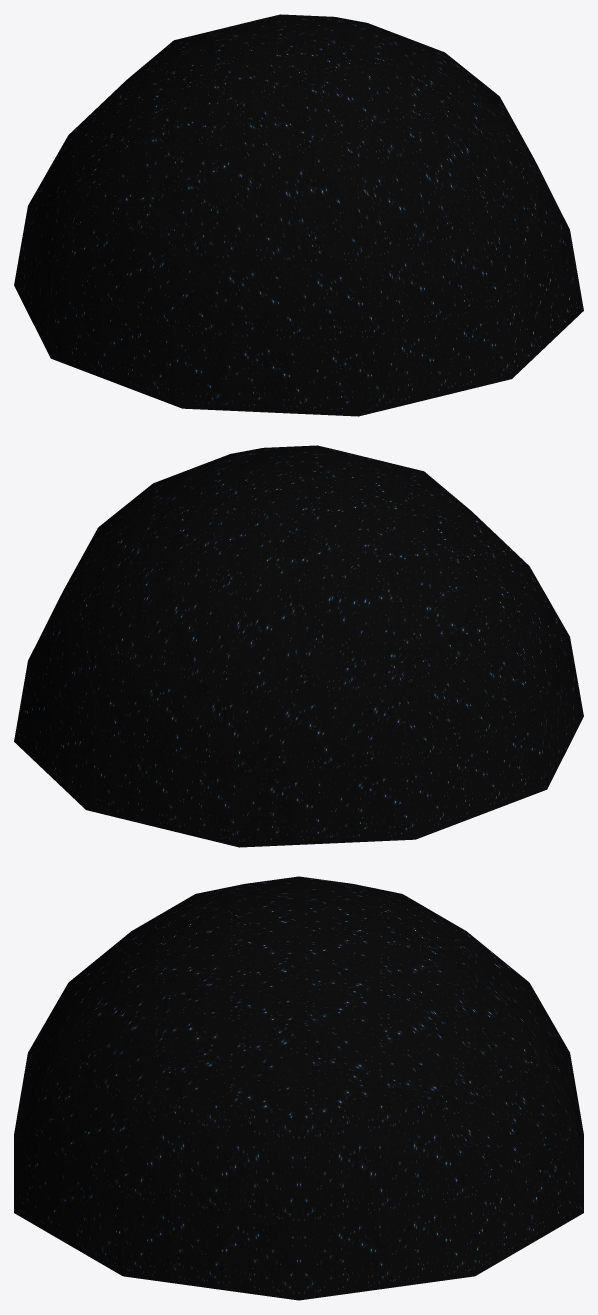
Rendered from halfsphere.obj.
3 views of the same model, one above another, from view 1: azimuth 30°, elevation 25°; view 2: azimuth 150°, elevation 25°; view 3: azimuth 270°, elevation 25° (orthographic). The views are drawn at different scales.
Parts seen in each view (by area): view 1: Sphere; view 2: Sphere; view 3: Sphere.
Boxes of the visible parts, box(x1,y1,x2,y2) form: Sphere: box(14, 14, 583, 416); Sphere: box(14, 445, 583, 847); Sphere: box(14, 876, 583, 1300).
Size of the model in its own units: 500 by 250 by 476.
Materials: 1 (1 with a texture image).
